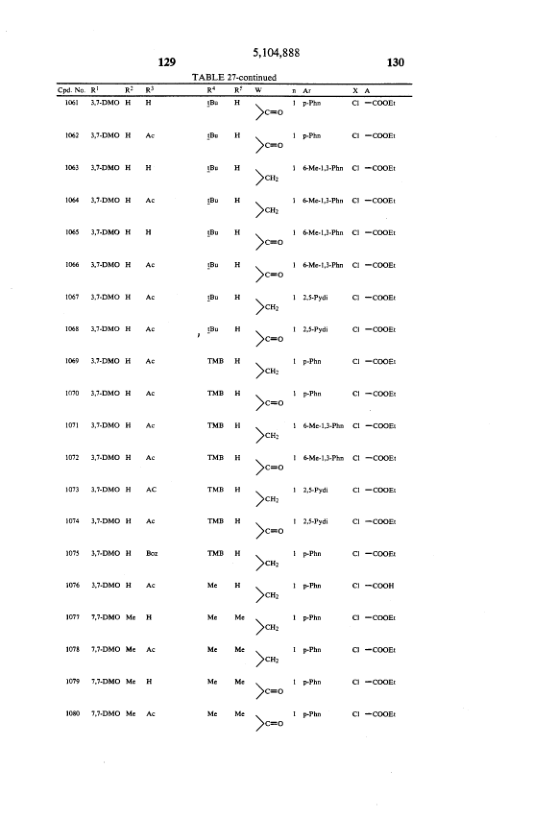compound-structure: (347, 704, 400, 725), (349, 350, 396, 370), (251, 229, 284, 255), (254, 519, 288, 544), (252, 355, 282, 383), (249, 166, 280, 192), (252, 612, 283, 638), (249, 135, 285, 157), (251, 711, 288, 732), (248, 294, 281, 317), (252, 423, 282, 448), (255, 456, 289, 478), (252, 393, 285, 415), (349, 130, 400, 144), (347, 293, 398, 307), (250, 198, 279, 222), (252, 104, 285, 125), (250, 488, 281, 510), (351, 453, 399, 467), (352, 227, 397, 241), (348, 98, 400, 110), (354, 611, 397, 625), (255, 585, 281, 608), (252, 648, 278, 671), (352, 261, 397, 274), (349, 389, 397, 401), (348, 645, 396, 657), (350, 516, 397, 528), (255, 329, 283, 349), (350, 422, 400, 433), (351, 195, 396, 207), (254, 267, 283, 285), (353, 325, 395, 337), (252, 554, 278, 573), (354, 487, 397, 497), (258, 682, 284, 698), (351, 550, 398, 558), (352, 165, 397, 173), (350, 582, 398, 588), (351, 678, 398, 684)
